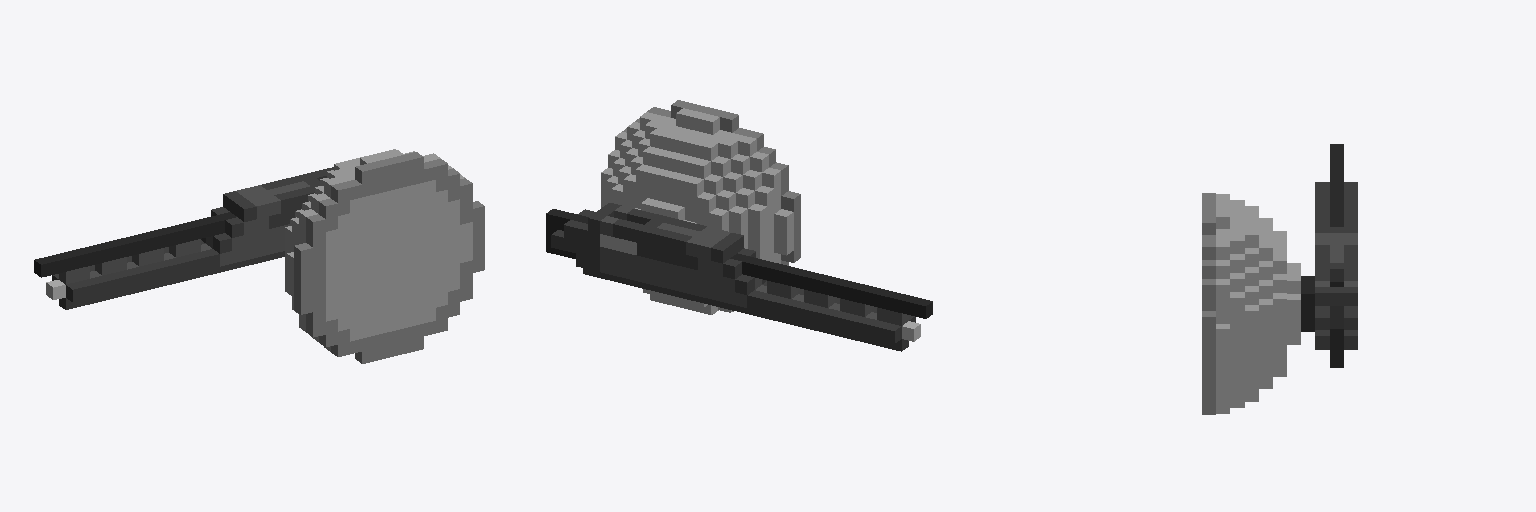
The picture shows the model from 3 angles: view 1: azimuth 30°, elevation 25°; view 2: azimuth 150°, elevation 25°; view 3: azimuth 270°, elevation 25°; orthographic projection.
Bounding box in the file's own units: 31 × 15 × 11.
Materials: 1 (1 with a texture image).